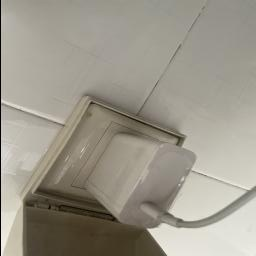outlet: (15, 88, 192, 232)
